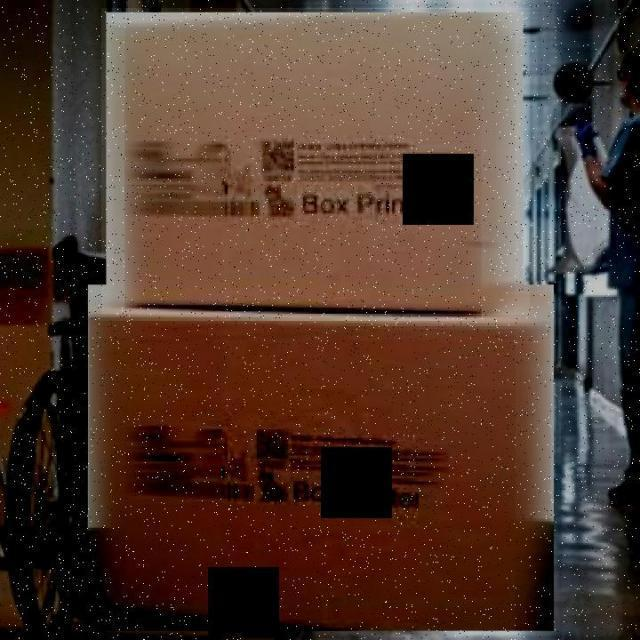box: (81, 279, 562, 638), (101, 8, 530, 315)
